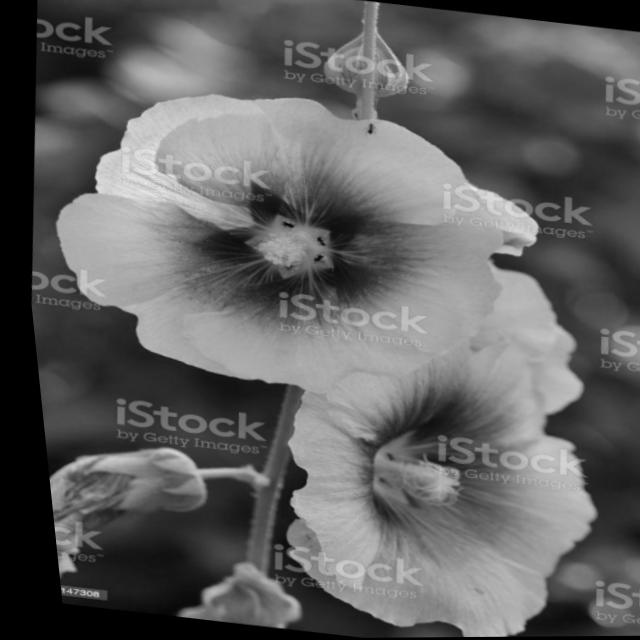Flower: (49, 77, 480, 393), (230, 332, 600, 639)
